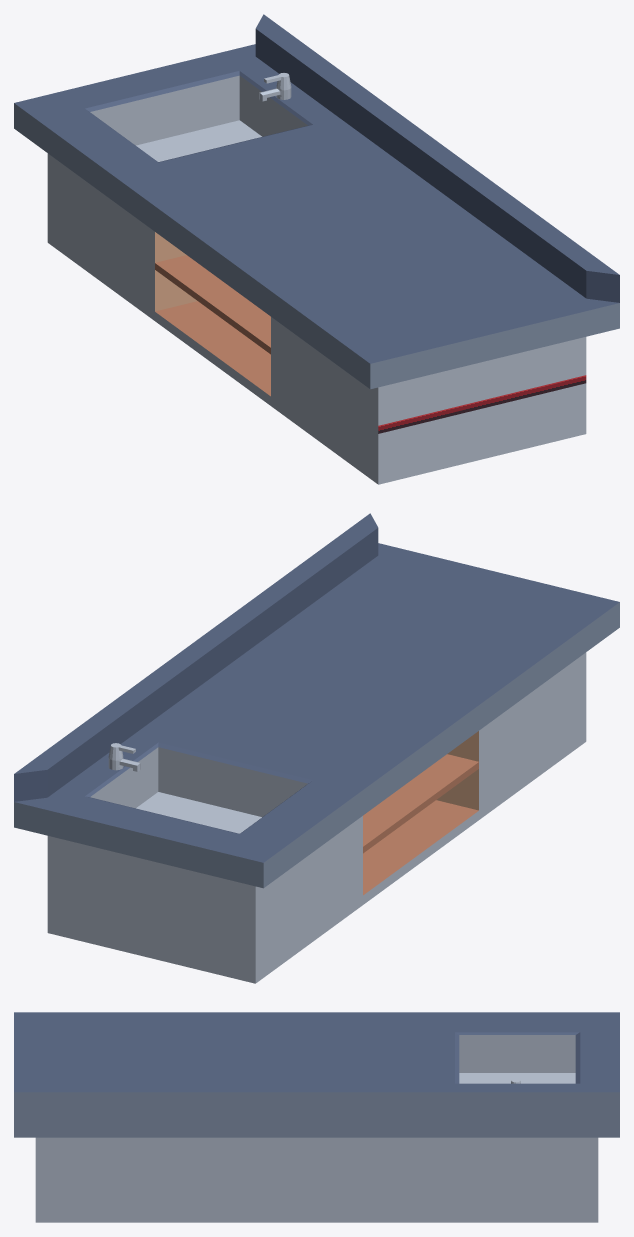
File: counter.glb
The picture shows the model from 3 angles, top to bottom: view 1: azimuth 30°, elevation 25°; view 2: azimuth 150°, elevation 25°; view 3: azimuth 270°, elevation 25°; orthographic projection. The views are drawn at different scales.
Visible parts, largest first — view 1: Cube; view 2: Cube; view 3: Cube.
Boxes of the visible parts, box(x1,y1,x2,y2) form: Cube: box(14, 14, 619, 484); Cube: box(14, 513, 619, 983); Cube: box(14, 1012, 619, 1222).
Size of the model in its own units: 0.6748 by 0.4216 by 1.67.
1 material, 1 textured.
